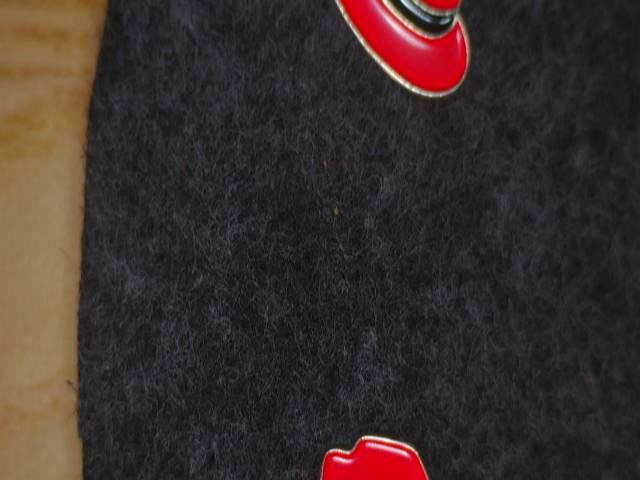Red-Hat: (288, 0, 500, 131), (314, 421, 460, 480)
